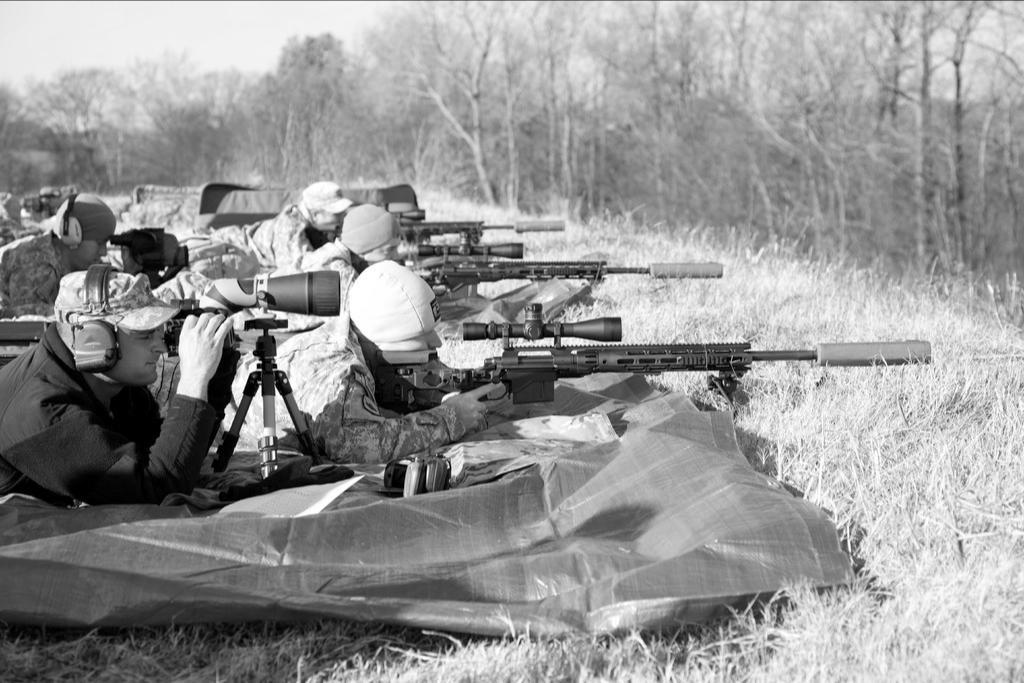gun: (443, 313, 947, 390), (420, 255, 732, 291), (396, 208, 568, 244)
